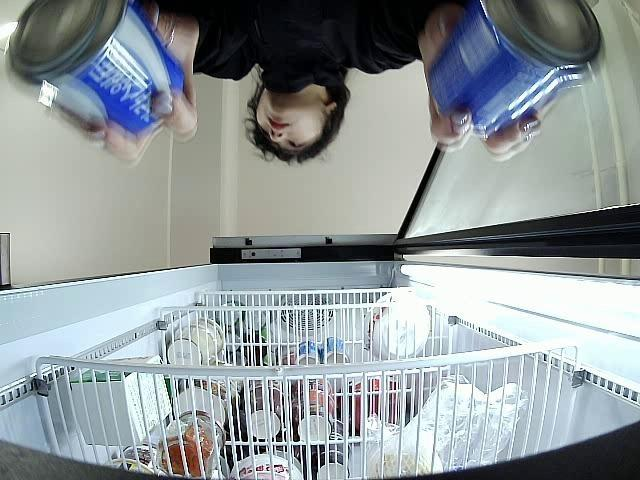13_pocariSweat: (425, 0, 604, 138), (8, 0, 186, 135)
